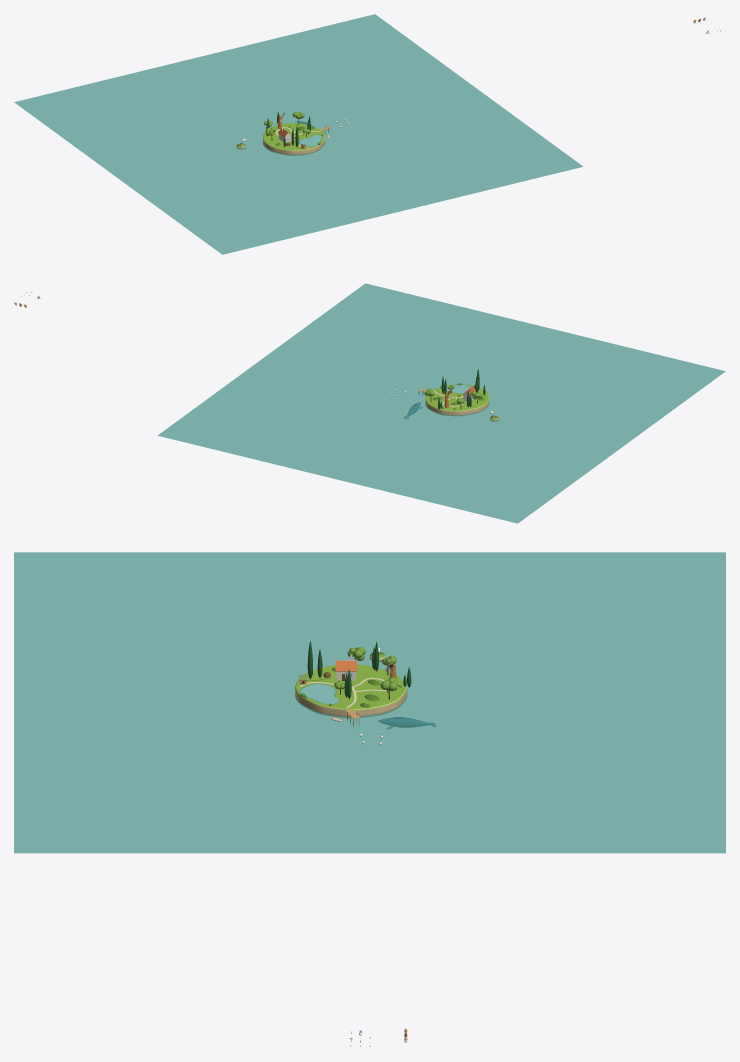
Rendered from island.glb.
The picture shows the model from 3 angles, top to bottom: view 1: azimuth 30°, elevation 25°; view 2: azimuth 150°, elevation 25°; view 3: azimuth 270°, elevation 25°; orthographic projection. The views are drawn at different scales.
Parts seen in each view (by area): view 1: Sea, Island; view 2: Sea, Island; view 3: Sea, Island.
Boxes of the visible parts, x1,y1,x2,y2 form: Sea: (14,14,583,254); Island: (262,123,325,155); Sea: (158,283,725,523); Island: (425,384,489,415); Sea: (14,552,725,853); Island: (295,664,407,718).
Bounding box in the file's own units: 434 × 22.69 × 260.
